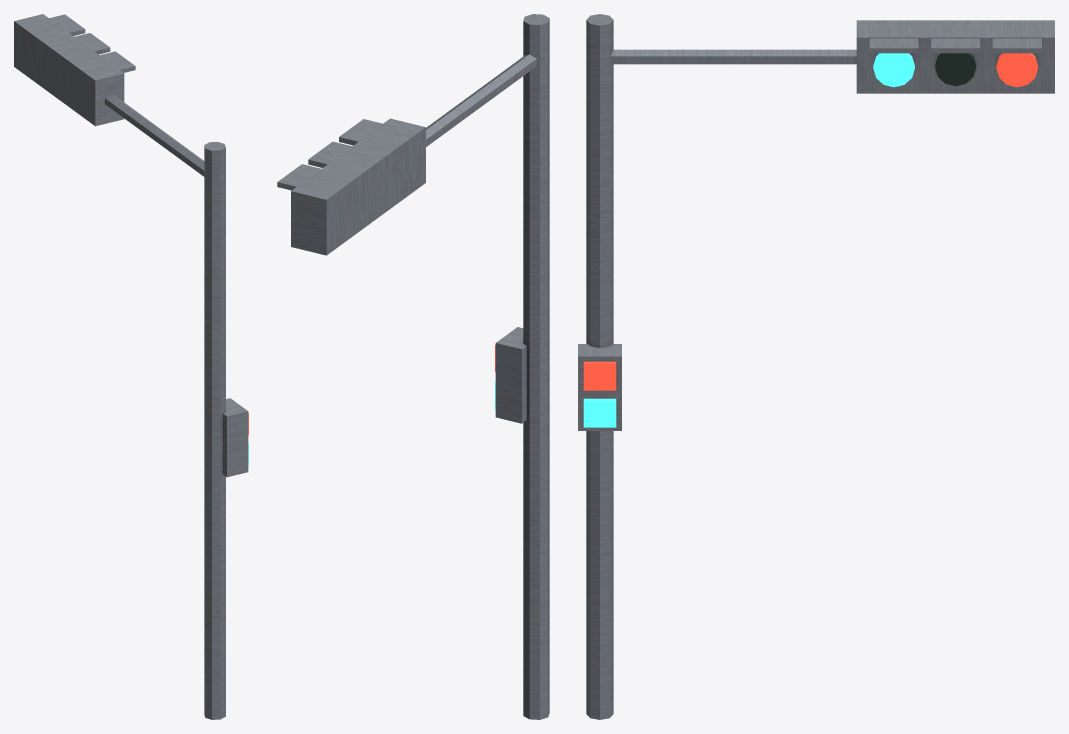
File: trafikljus_tex.glb
3 views of the same model, side by side, from view 1: azimuth 30°, elevation 25°; view 2: azimuth 150°, elevation 25°; view 3: azimuth 270°, elevation 25° (orthographic). The views are drawn at different scales.
Parts seen in each view (by area): view 1: Stolpe; view 2: Stolpe; view 3: Stolpe, Gron, Rod.
Part boxes in pixels (x1=…): Stolpe: x1=14, y1=14, x2=248, y2=719; Stolpe: x1=277, y1=14, x2=549, y2=719; Stolpe: x1=578, y1=14, x2=1054, y2=719; Gron: x1=583, y1=53, x2=914, y2=427; Rod: x1=583, y1=53, x2=1037, y2=390.
Size of the model in its own units: 0.47 by 5.6 by 3.48.
Materials: 4 (1 with a texture image).
